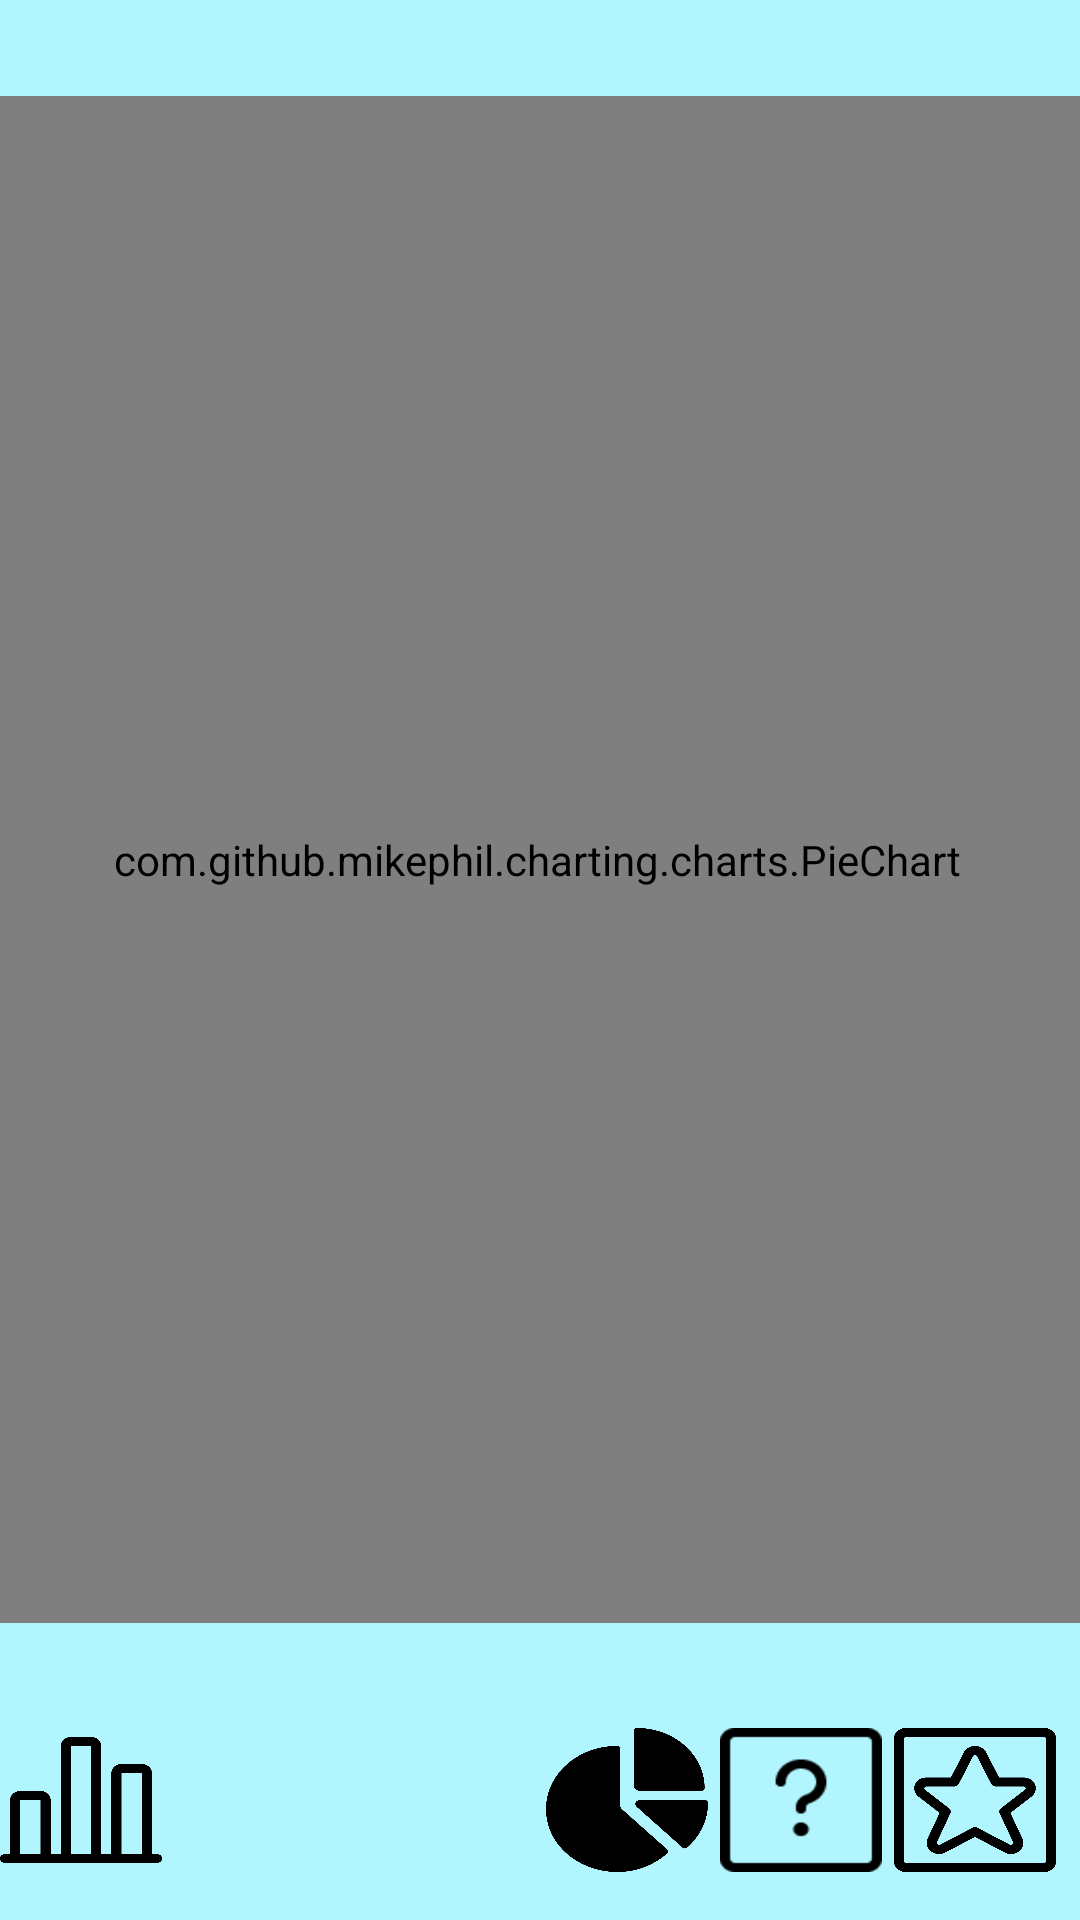

Icon bounding boxes for this 1080*1920 phone screenshot, format {"left": x1, "top": y1, "right": x2, "bottom": y2}:
analytics bars: {"left": 0, "top": 1737, "right": 162, "bottom": 1863}
analytics pie: {"left": 546, "top": 1728, "right": 708, "bottom": 1872}
question help square: {"left": 720, "top": 1728, "right": 882, "bottom": 1872}
